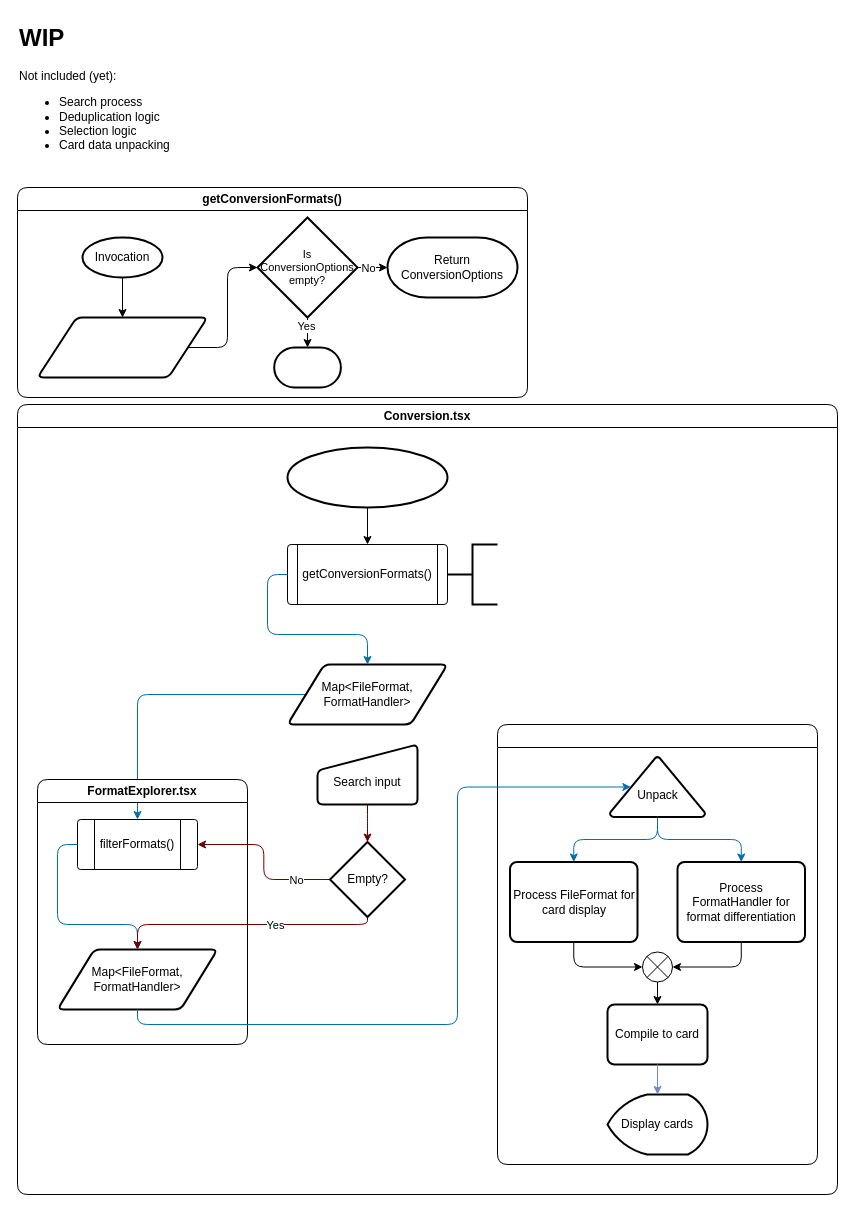
Image size: 855x1212. Some labels were removed from this diagram. Each missing label, with the box of its shape:
ConversionOptions: (36, 316, 208, 378)
FormatCard.tsx: (496, 724, 818, 1164)
Load format mapping: (286, 544, 448, 604)
Open Conversion page: (286, 446, 448, 508)
Search formats: (76, 818, 198, 870)
Throw: (273, 346, 341, 388)
type ConversionOptionsMap: (446, 543, 498, 605)
